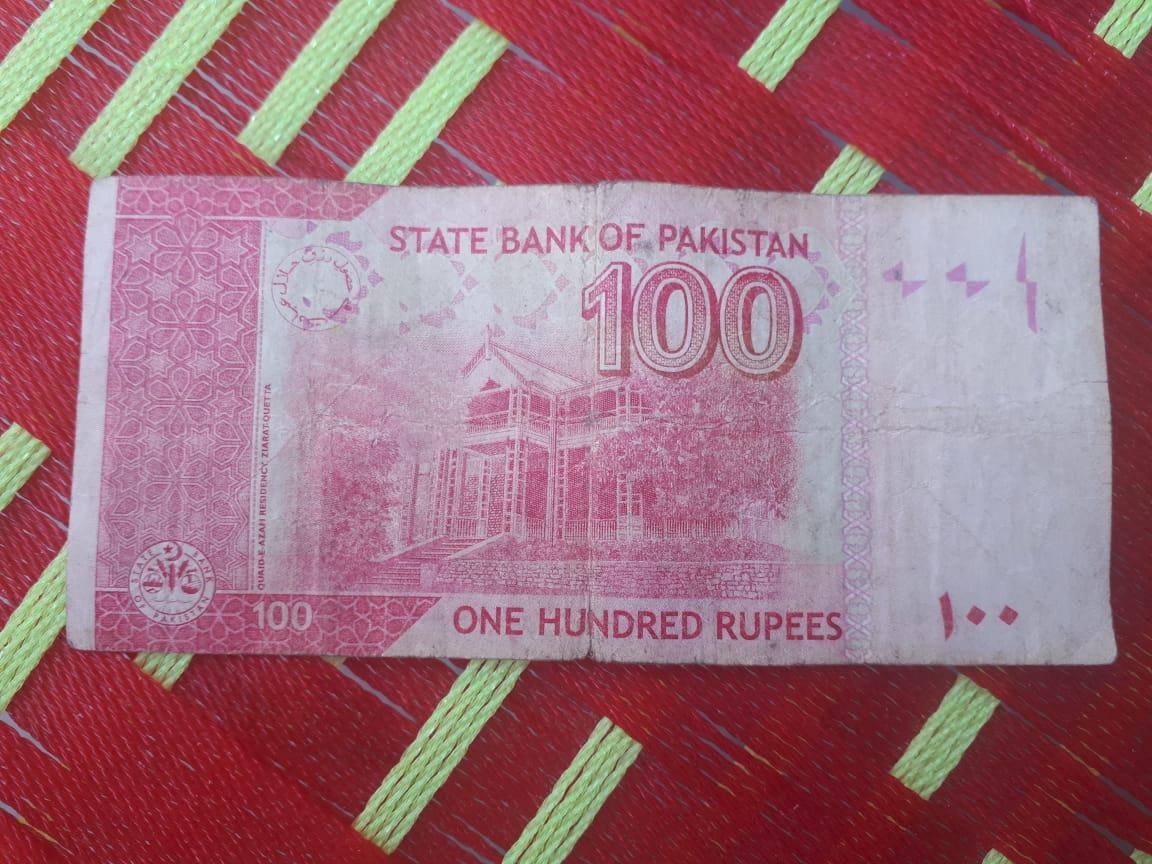100 rupee: (59, 182, 1129, 678)
